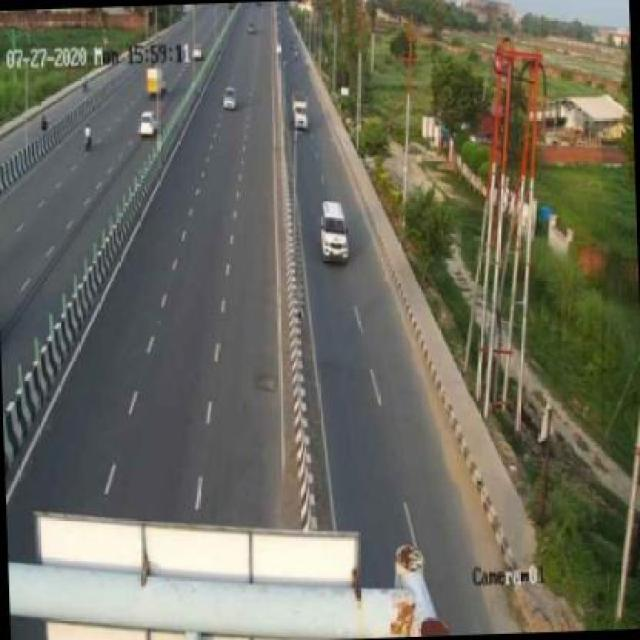car: (318, 200, 351, 266), (291, 91, 309, 135), (134, 111, 161, 135), (218, 85, 240, 112)
